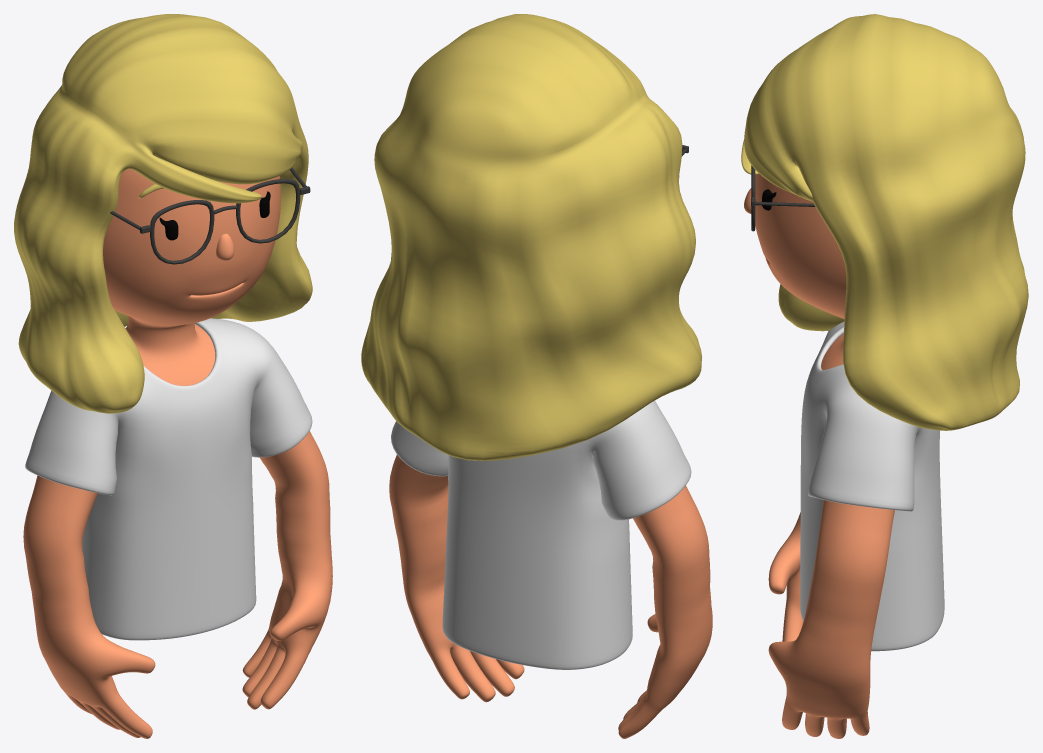
3 views of the same model, side by side, from view 1: azimuth 30°, elevation 25°; view 2: azimuth 150°, elevation 25°; view 3: azimuth 270°, elevation 25° (orthographic). The views are drawn at different scales.
Visible parts, largest first — view 1: Hair_7, T-shirt, body, head, eyeglass_2; view 2: Hair_7, T-shirt, body; view 3: Hair_7, T-shirt, body, head, eyeglass_2.
Part boxes in pixels (x1,y1,x2,y2): Hair_7: [14, 14, 312, 413]; T-shirt: [25, 318, 312, 640]; body: [23, 431, 332, 738]; head: [103, 169, 280, 385]; eyeglass_2: [110, 167, 310, 264]; Hair_7: [361, 14, 701, 460]; T-shirt: [391, 400, 691, 669]; body: [389, 455, 712, 738]; Hair_7: [741, 14, 1028, 430]; T-shirt: [800, 321, 944, 651]; body: [768, 500, 894, 738]; head: [755, 174, 846, 370]; eyeglass_2: [751, 165, 815, 231].
Size of the model in its own units: 6.15 by 13.36 by 5.1.
